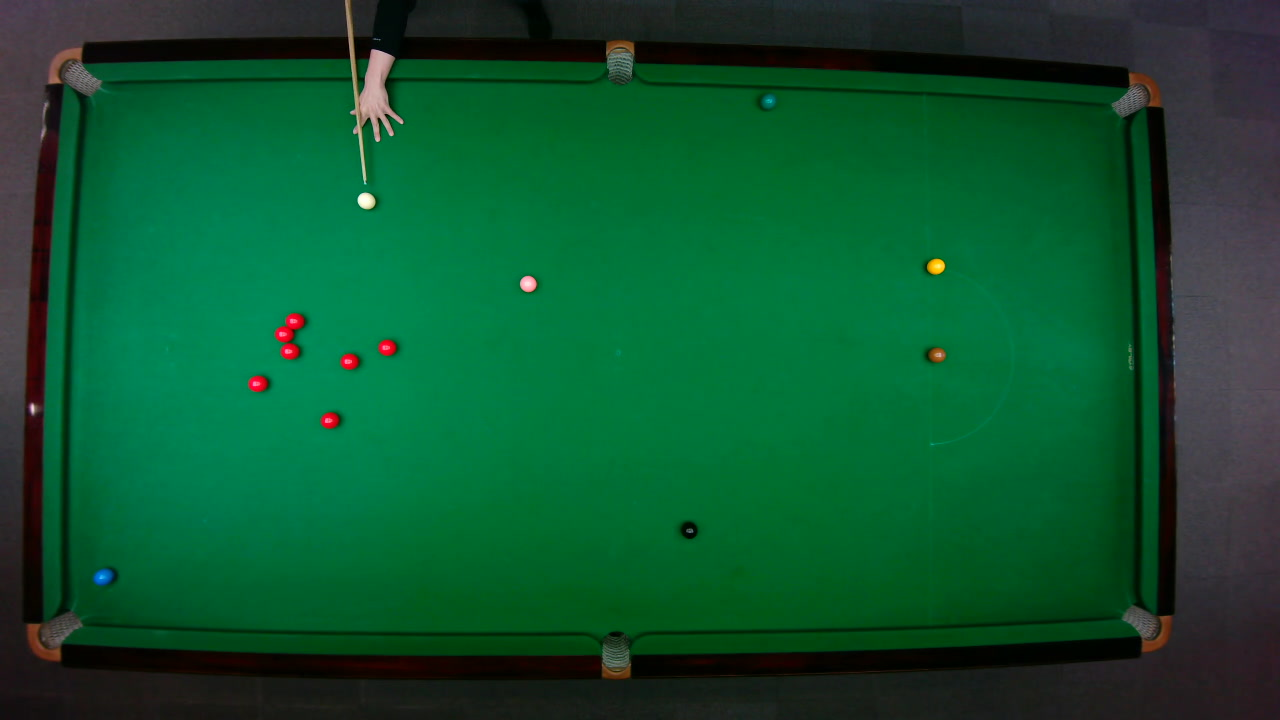bag: (24, 609, 84, 661), (45, 46, 102, 96), (1119, 603, 1171, 652), (1108, 71, 1161, 118), (600, 629, 630, 680), (605, 38, 633, 85)
black: (679, 520, 697, 539)
blue: (91, 566, 114, 585)
brown: (926, 346, 946, 362)
cue: (342, 0, 369, 186)
green: (758, 92, 776, 110)
pink: (517, 274, 537, 292)
red: (318, 410, 340, 429), (284, 311, 305, 330), (246, 374, 268, 392), (376, 338, 397, 356), (278, 342, 300, 359), (273, 324, 293, 342), (339, 352, 359, 369)
white: (355, 190, 376, 209)
yellow: (925, 257, 945, 274)
zone: (927, 266, 1013, 445)
